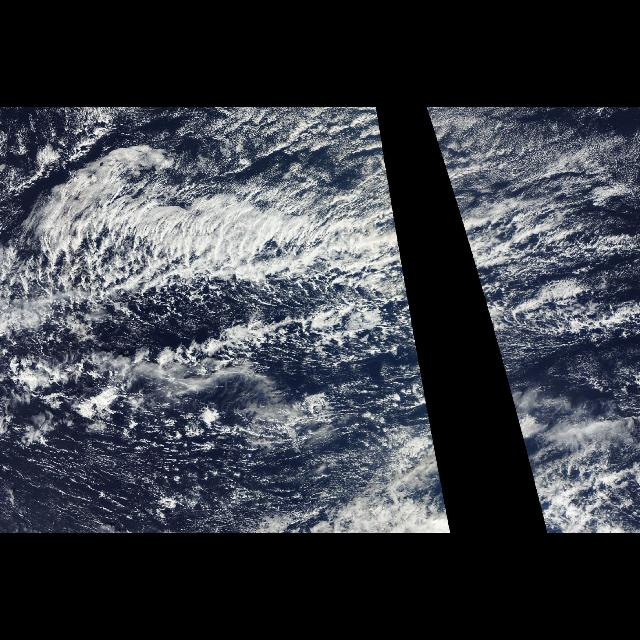Fish: (0, 160, 414, 384), (442, 160, 454, 200)
Gravel: (112, 275, 324, 325)
Sugar: (0, 420, 358, 532), (153, 108, 400, 232), (426, 108, 638, 232)
